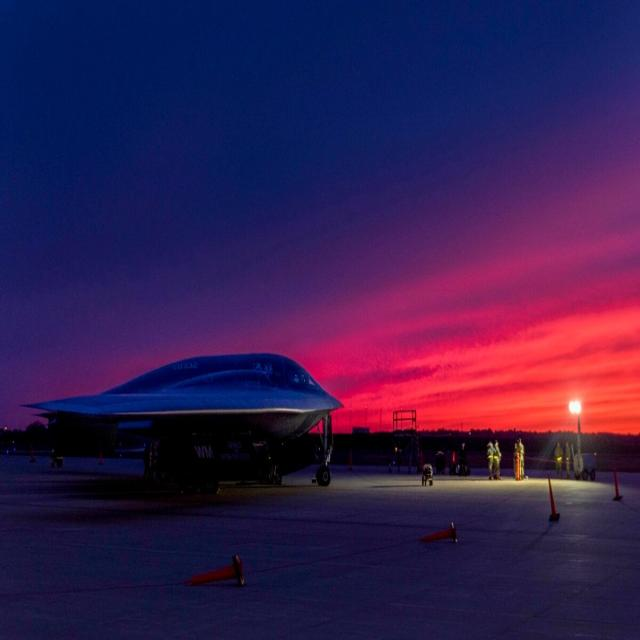MIL_Plane: (17, 352, 344, 493)
